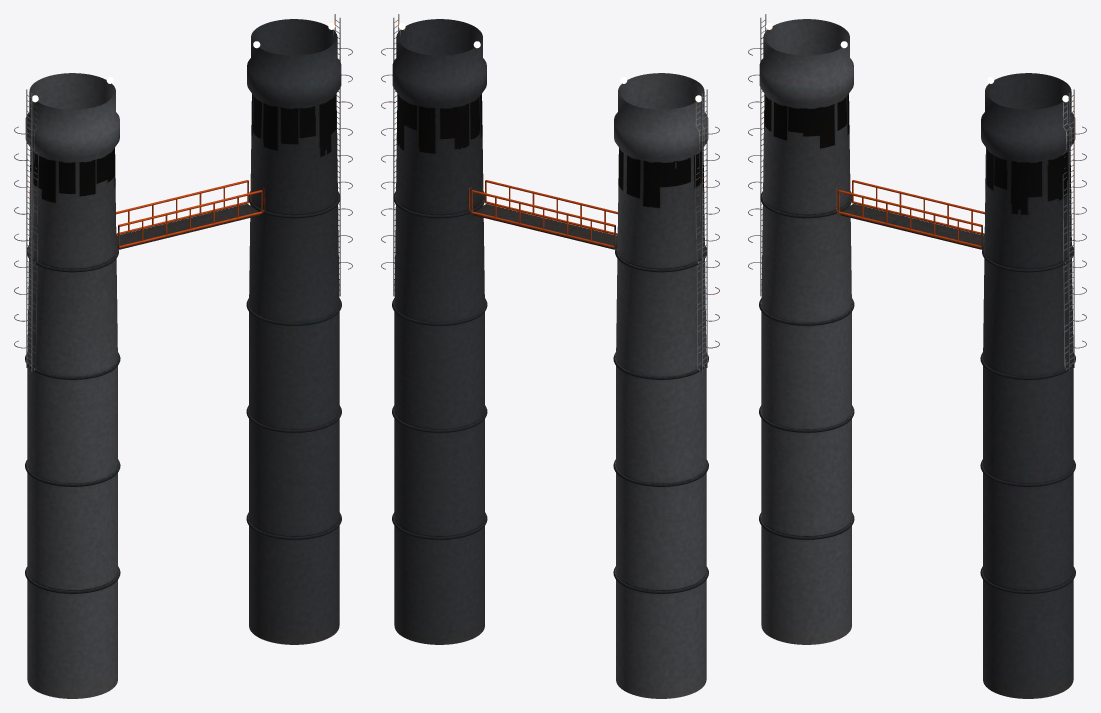
Rendered from hull_stacks.glb.
3 views of the same model, side by side, from view 1: azimuth 30°, elevation 25°; view 2: azimuth 150°, elevation 25°; view 3: azimuth 330°, elevation 25° (orthographic).
Parts seen in each view (by area): view 1: hull_stacks; view 2: hull_stacks; view 3: hull_stacks.
Part boxes in pixels (bbox=[...]): hull_stacks: bbox=[14, 14, 352, 698]; hull_stacks: bbox=[381, 14, 719, 698]; hull_stacks: bbox=[748, 14, 1086, 698].
Size of the model in its own units: 19.74 by 33.6 by 4.85.
Materials: 2 (2 with a texture image).
